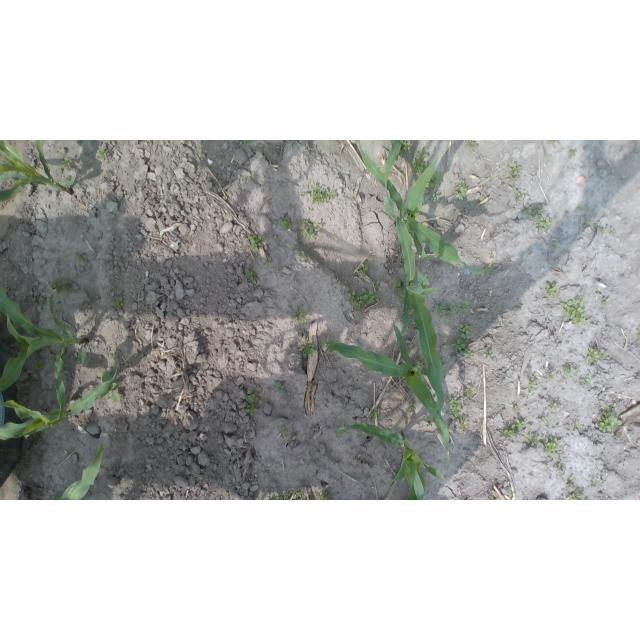Maize: (357, 140, 489, 277), (329, 325, 449, 451), (382, 195, 446, 417), (0, 286, 88, 422), (1, 361, 120, 442), (336, 420, 445, 500), (0, 141, 78, 202), (53, 444, 103, 500), (382, 141, 403, 200)
Weeds: (558, 295, 586, 328), (347, 289, 381, 311), (99, 372, 122, 403), (435, 300, 472, 319), (597, 407, 623, 434), (532, 204, 553, 232), (310, 184, 336, 204), (243, 389, 262, 416), (423, 173, 444, 193), (300, 219, 317, 242), (448, 394, 463, 420), (452, 339, 473, 357), (52, 277, 73, 294), (291, 309, 314, 324), (299, 339, 318, 357), (412, 157, 428, 177), (587, 348, 609, 362), (544, 438, 561, 456), (392, 284, 405, 305), (248, 235, 263, 253), (453, 182, 468, 200), (398, 140, 413, 156), (334, 422, 350, 437), (322, 337, 336, 353), (458, 324, 472, 340), (273, 382, 287, 397), (244, 268, 257, 284), (509, 164, 521, 181), (110, 297, 124, 311), (280, 217, 293, 231), (528, 377, 541, 391), (358, 263, 371, 277), (313, 491, 333, 500), (547, 400, 560, 413), (511, 419, 525, 431), (429, 189, 441, 203), (96, 146, 108, 160), (413, 148, 429, 158), (544, 283, 556, 296), (288, 489, 302, 500), (32, 359, 44, 371), (75, 252, 87, 264), (528, 436, 541, 447), (502, 429, 515, 440), (464, 386, 477, 397), (60, 156, 73, 167), (61, 355, 73, 366), (481, 347, 494, 357), (564, 364, 572, 380), (568, 493, 585, 500), (272, 493, 288, 500), (297, 251, 308, 261), (567, 477, 577, 488), (369, 408, 380, 418), (466, 140, 479, 148), (571, 422, 581, 432), (314, 221, 323, 231), (263, 258, 273, 267), (459, 421, 469, 430), (53, 492, 64, 500), (521, 205, 533, 212), (408, 403, 417, 412), (48, 356, 57, 365), (485, 264, 493, 274), (371, 280, 381, 288), (415, 361, 425, 369), (281, 428, 291, 436), (541, 417, 552, 424), (568, 150, 576, 159), (514, 192, 522, 201), (585, 374, 591, 384), (603, 298, 610, 306), (244, 140, 255, 145), (635, 328, 640, 337), (360, 472, 369, 477), (578, 205, 585, 211), (549, 373, 556, 379), (509, 488, 514, 496), (40, 300, 45, 308), (610, 229, 616, 235), (552, 242, 558, 248), (591, 480, 597, 485), (488, 496, 495, 500), (102, 172, 107, 177), (291, 140, 297, 144), (613, 403, 617, 407), (423, 416, 427, 420), (552, 140, 556, 142)
